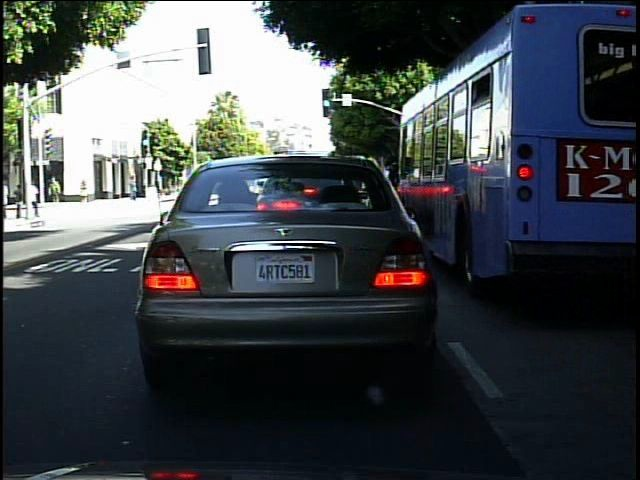person: (76, 171, 94, 209), (48, 173, 67, 207), (125, 170, 143, 204), (30, 175, 43, 218), (13, 179, 24, 221)
